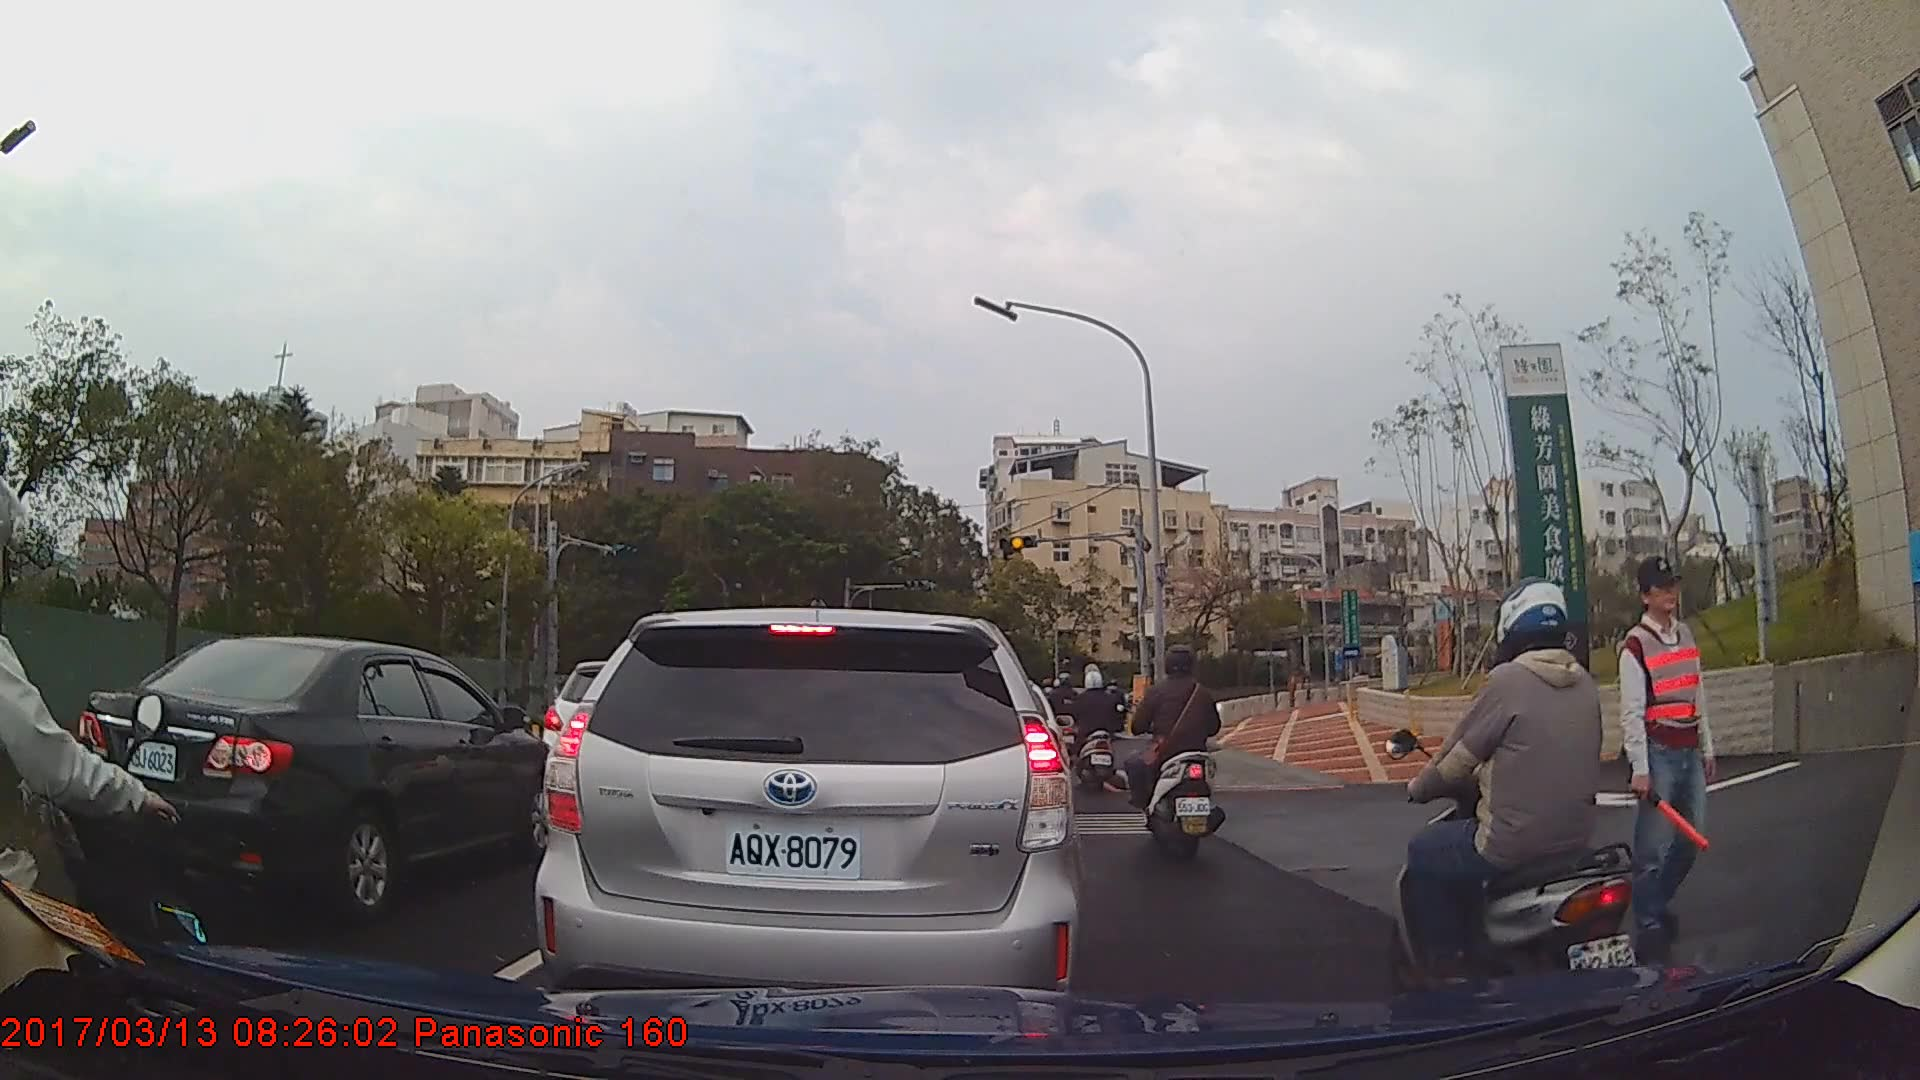pedestrian: (1616, 552, 1724, 952)
rider: (1389, 577, 1648, 1031), (1, 480, 190, 1080), (1125, 647, 1227, 858), (1077, 665, 1126, 798), (1046, 672, 1087, 770)
vehicle: (530, 608, 1082, 1024), (66, 633, 561, 917)
